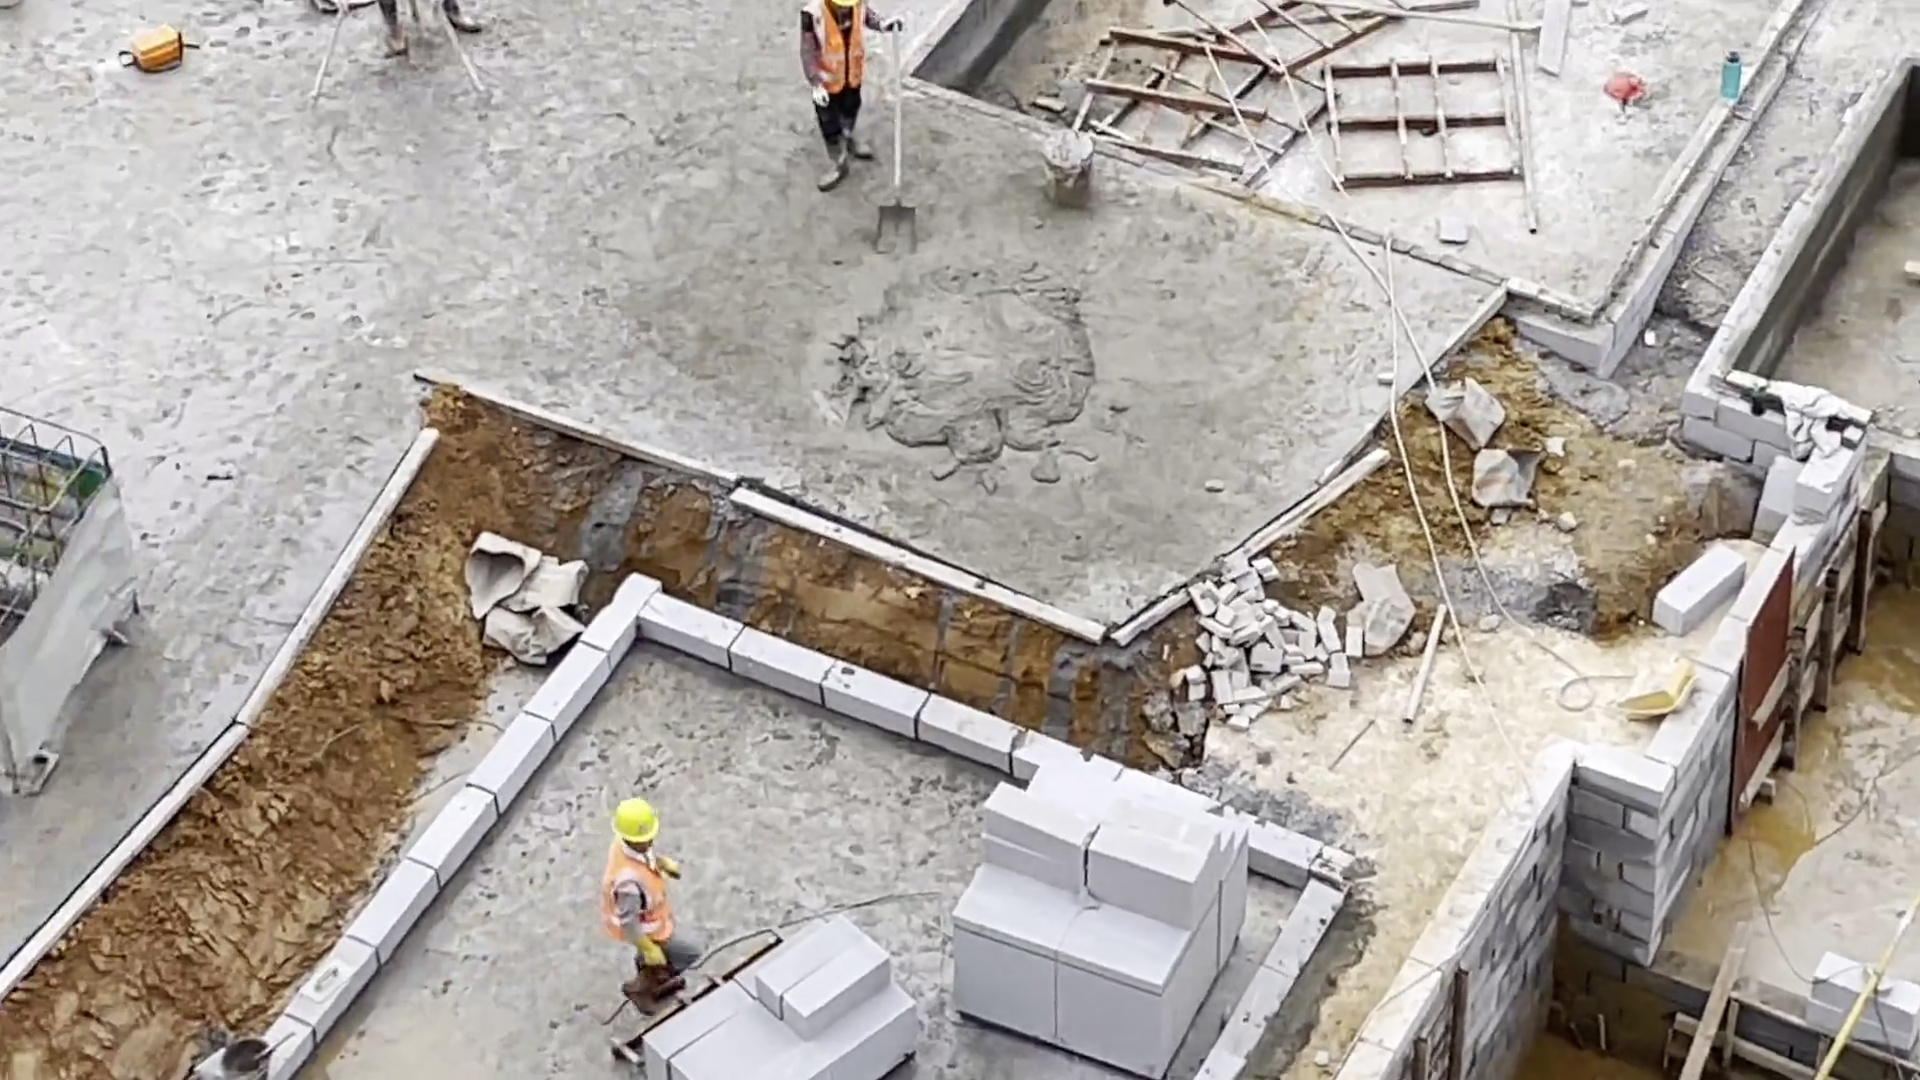brick: (946, 756, 1253, 1077), (648, 910, 922, 1080)
helmet: (614, 798, 660, 845)
person: (597, 797, 700, 1017), (793, 1, 906, 196), (376, 1, 484, 63)
vest: (604, 841, 673, 948), (804, 1, 867, 96)
